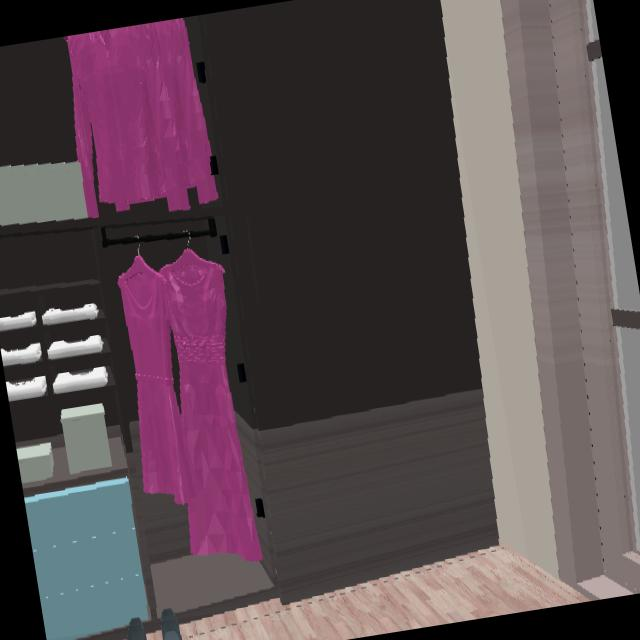wardrobe: (0, 0, 498, 622)
